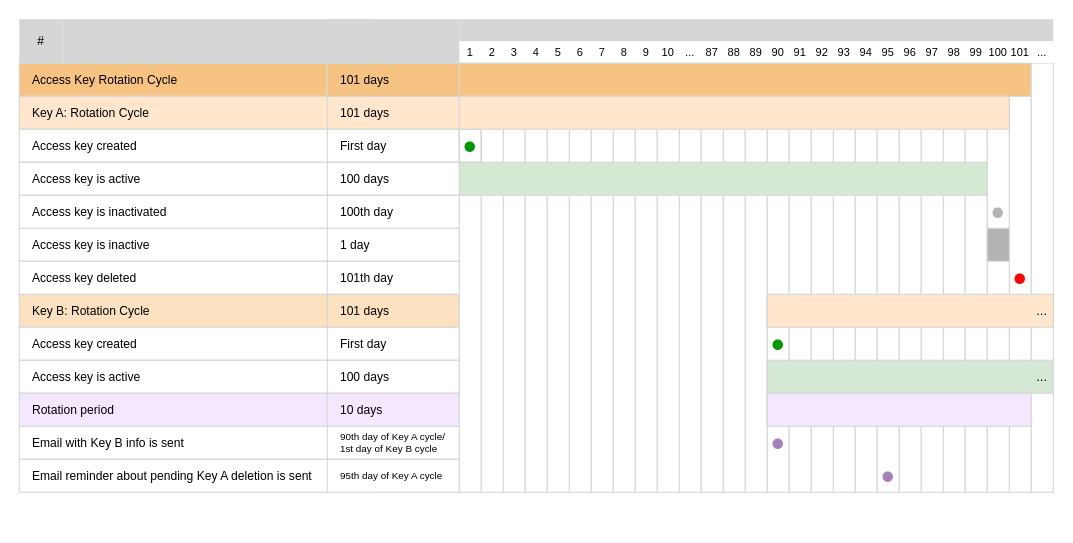
This 1073x543 diagram has some shape labels left out. Here are the shapes that lost their labels. From the top down, the centre of each, then its label:
At [217,41]: "Task Name".
At [393,41]: "Duration/ Day".
At [756,30]: "Timeline".
